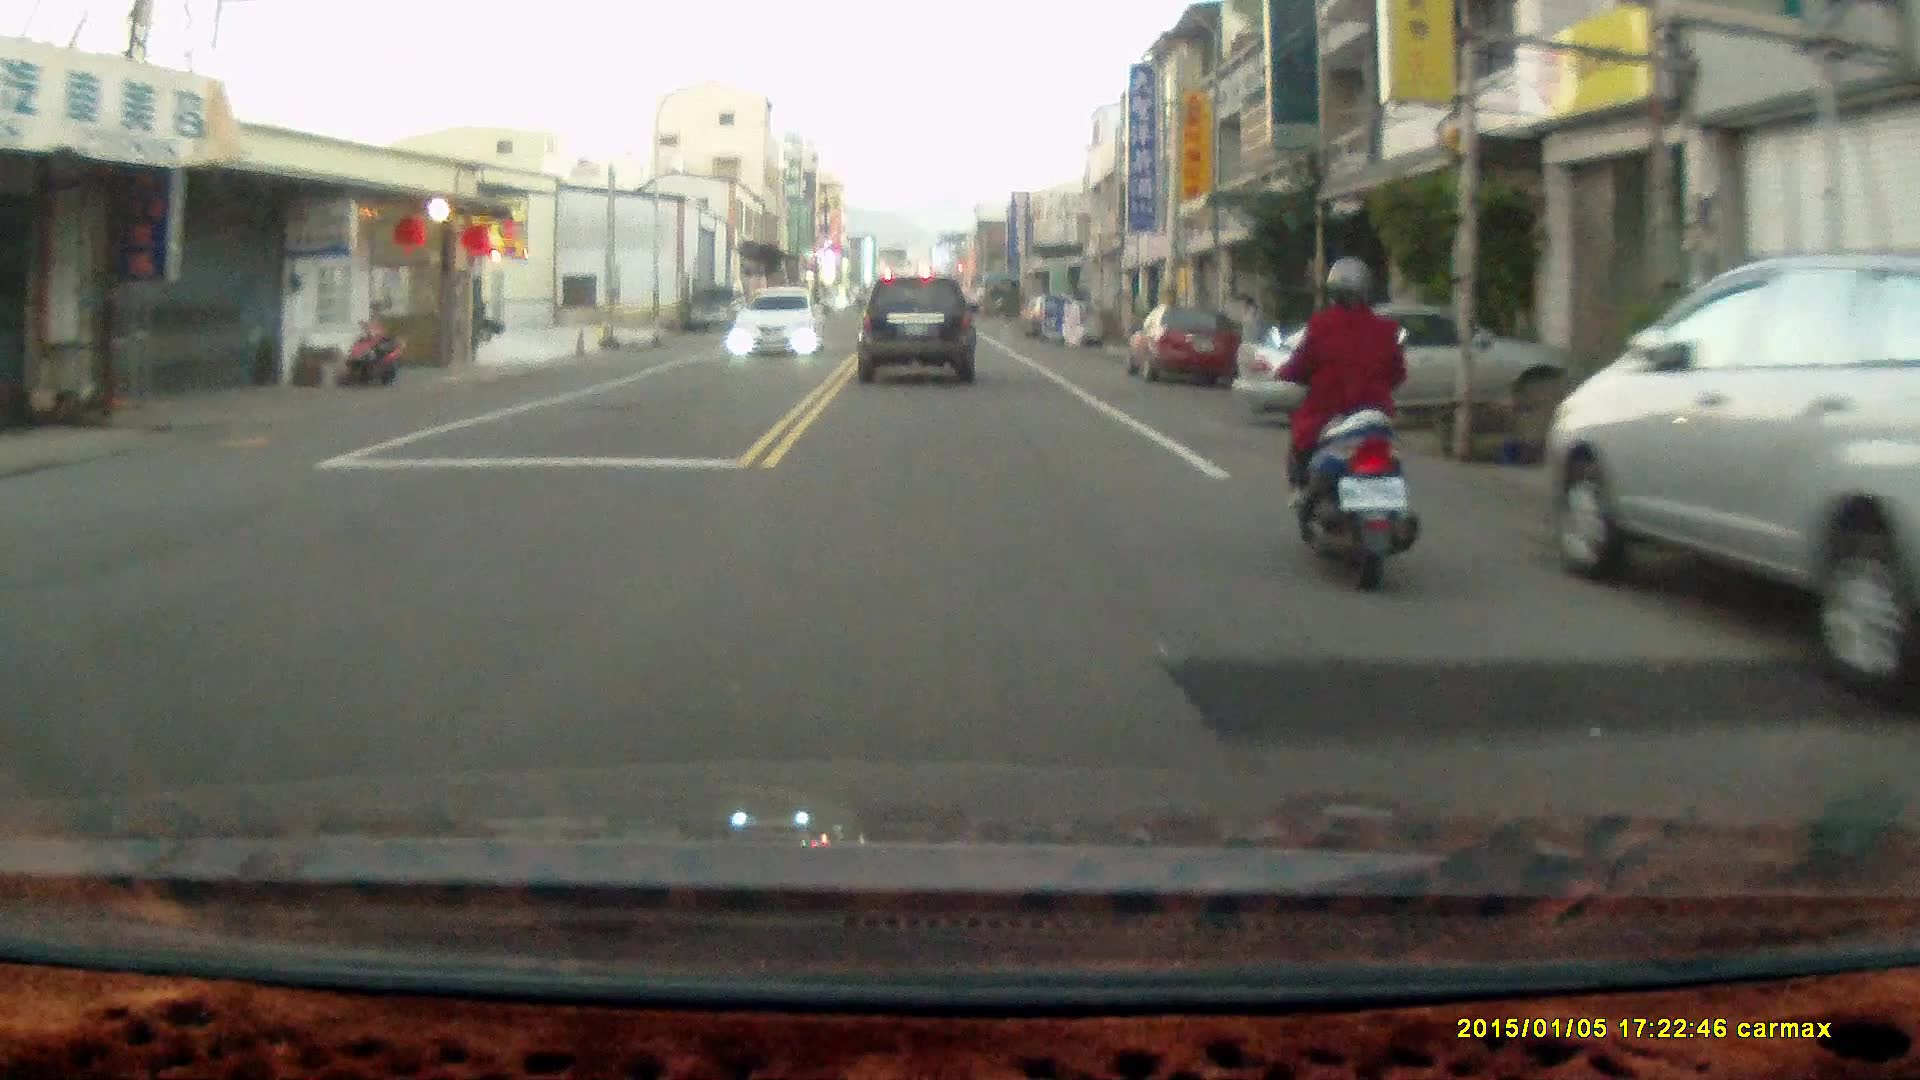rider: (1253, 253, 1423, 593)
vehicle: (1542, 249, 1916, 689), (1238, 300, 1580, 430), (857, 268, 981, 382), (1125, 303, 1247, 382), (730, 285, 827, 354), (687, 281, 749, 329)
